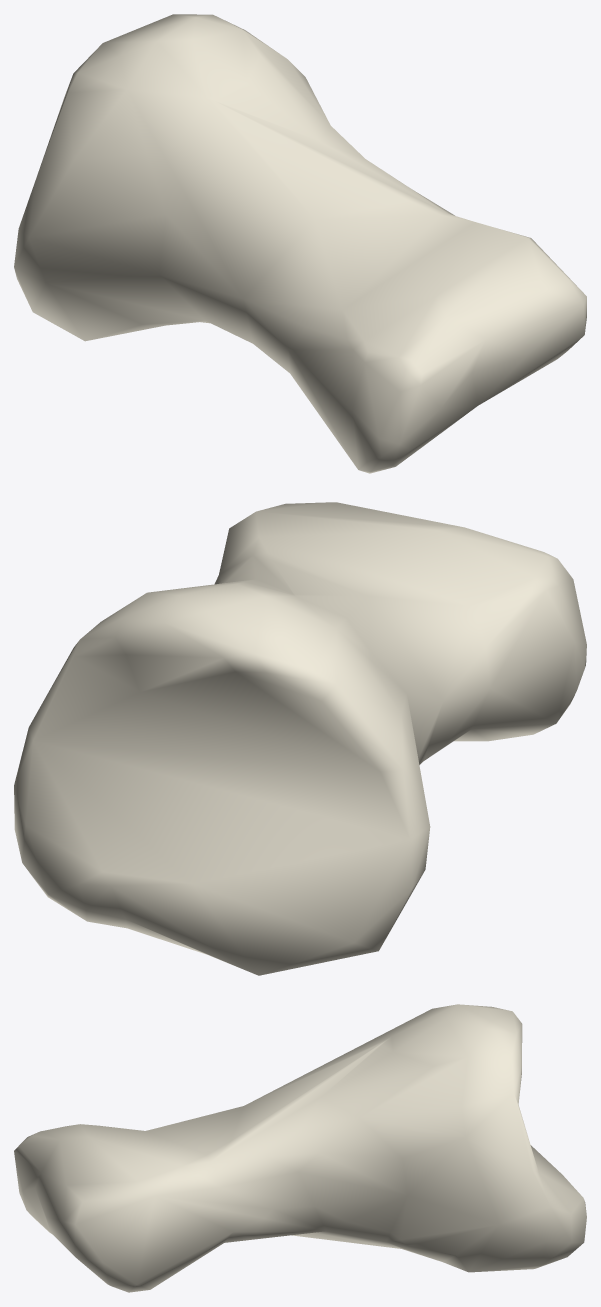
The picture shows the model from 3 angles, top to bottom: view 1: azimuth 30°, elevation 25°; view 2: azimuth 150°, elevation 25°; view 3: azimuth 270°, elevation 25°; orthographic projection. The views are drawn at different scales.
Parts seen in each view (by area): view 1: ZA_85c811aae06a86f3; view 2: ZA_85c811aae06a86f3; view 3: ZA_85c811aae06a86f3.
Boxes of the visible parts, x1,y1,x2,y2 form: ZA_85c811aae06a86f3: (14, 14, 586, 473); ZA_85c811aae06a86f3: (14, 502, 586, 975); ZA_85c811aae06a86f3: (14, 1004, 586, 1292).
Size of the model in its own units: 0.0111 by 0.0083 by 0.0174.
